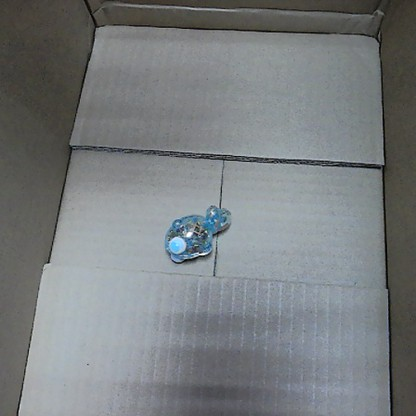bluefish: (160, 196, 233, 263)
